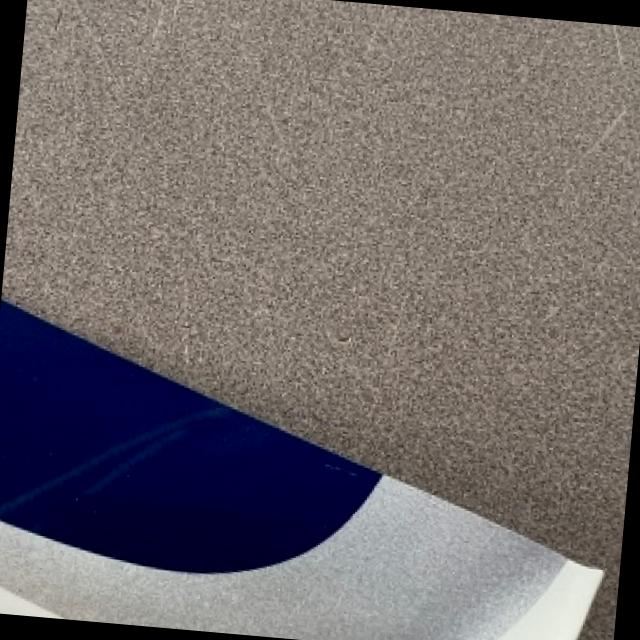healthy: (1, 0, 640, 640), (0, 299, 600, 640)
